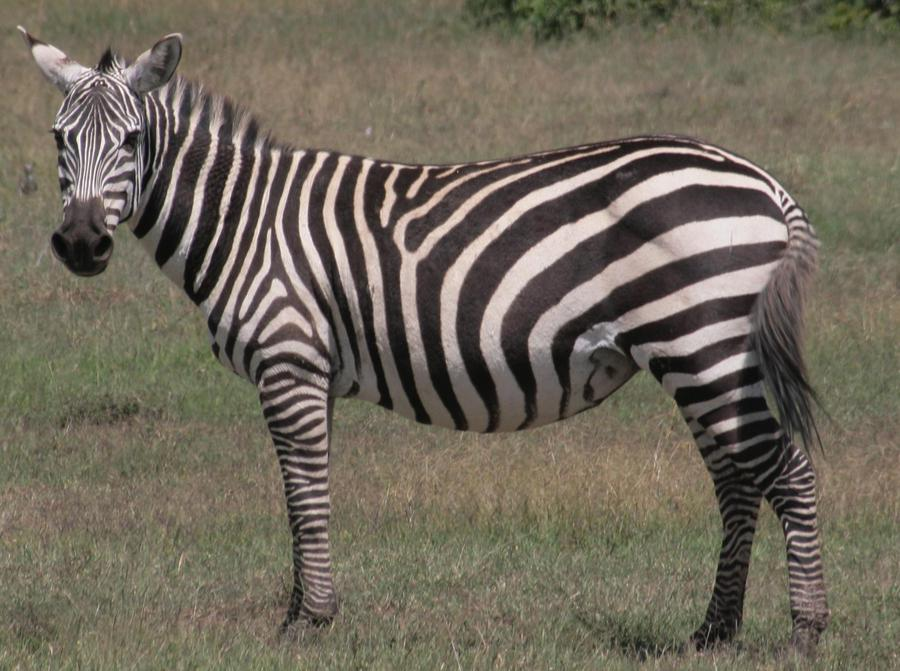zebra_plains: (207, 122, 793, 424)
